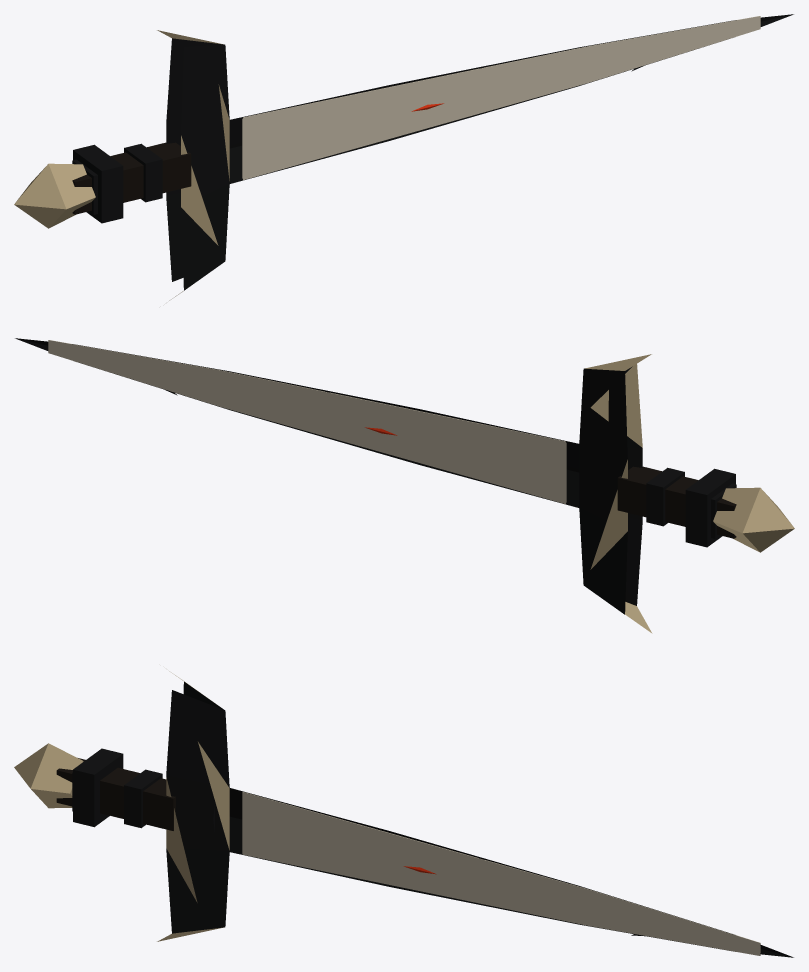
The model's file is SM_AO_OssuaryBlade.obj.
The picture shows the model from 3 angles, top to bottom: view 1: azimuth 30°, elevation 25°; view 2: azimuth 150°, elevation 25°; view 3: azimuth 330°, elevation 25°; orthographic projection.
Parts seen in each view (by area): view 1: SM_AO_OssuaryBlade; view 2: SM_AO_OssuaryBlade; view 3: SM_AO_OssuaryBlade.
Boxes of the visible parts, x1=… form: SM_AO_OssuaryBlade: x1=14, y1=14, x2=793, y2=300; SM_AO_OssuaryBlade: x1=15, y1=338, x2=794, y2=633; SM_AO_OssuaryBlade: x1=14, y1=671, x2=793, y2=957.
Size of the model in its own units: 181 by 62 by 14.4.
